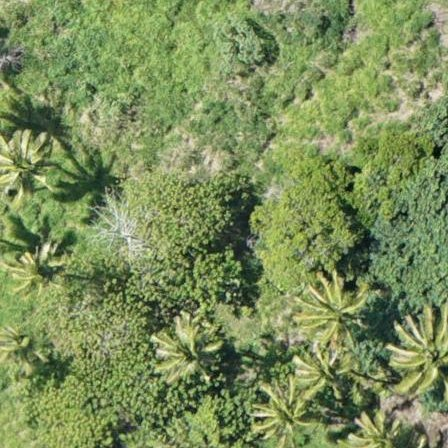palm_tree: (386, 315, 448, 390), (297, 279, 364, 343), (152, 315, 220, 375), (253, 383, 314, 447), (1, 131, 58, 199), (7, 240, 62, 301), (293, 345, 352, 397), (344, 411, 413, 448), (1, 325, 37, 373), (445, 1, 448, 7)
